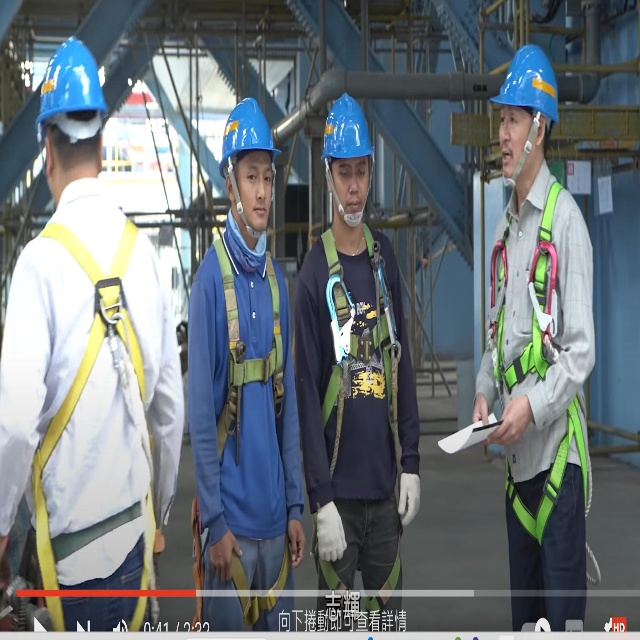Arnes_seguridad: (29, 197, 159, 621), (190, 235, 294, 619), (487, 180, 589, 553), (313, 225, 407, 624)
